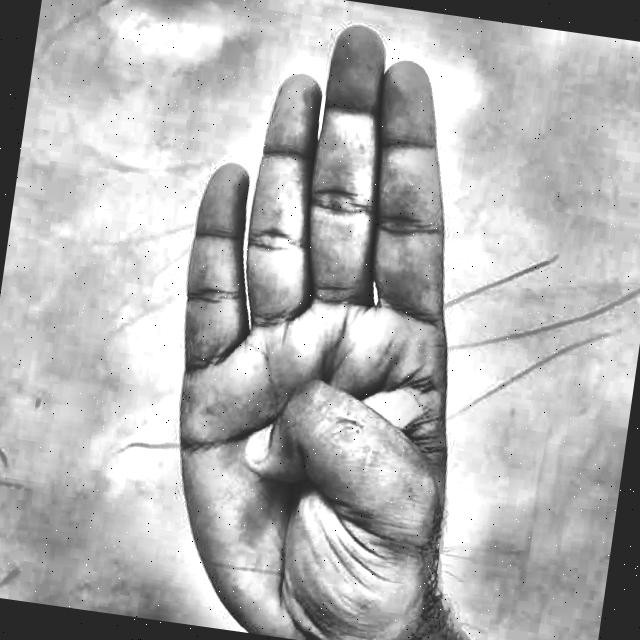Ba: (100, 0, 557, 640)
